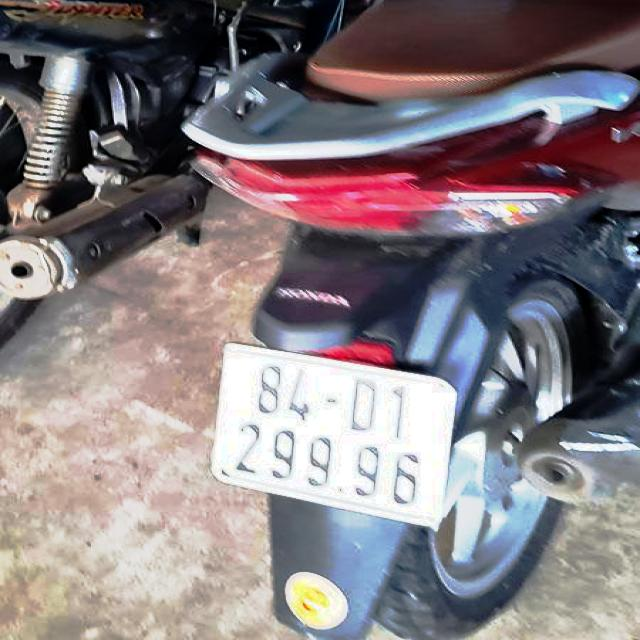license_plate: (211, 343, 462, 532)
